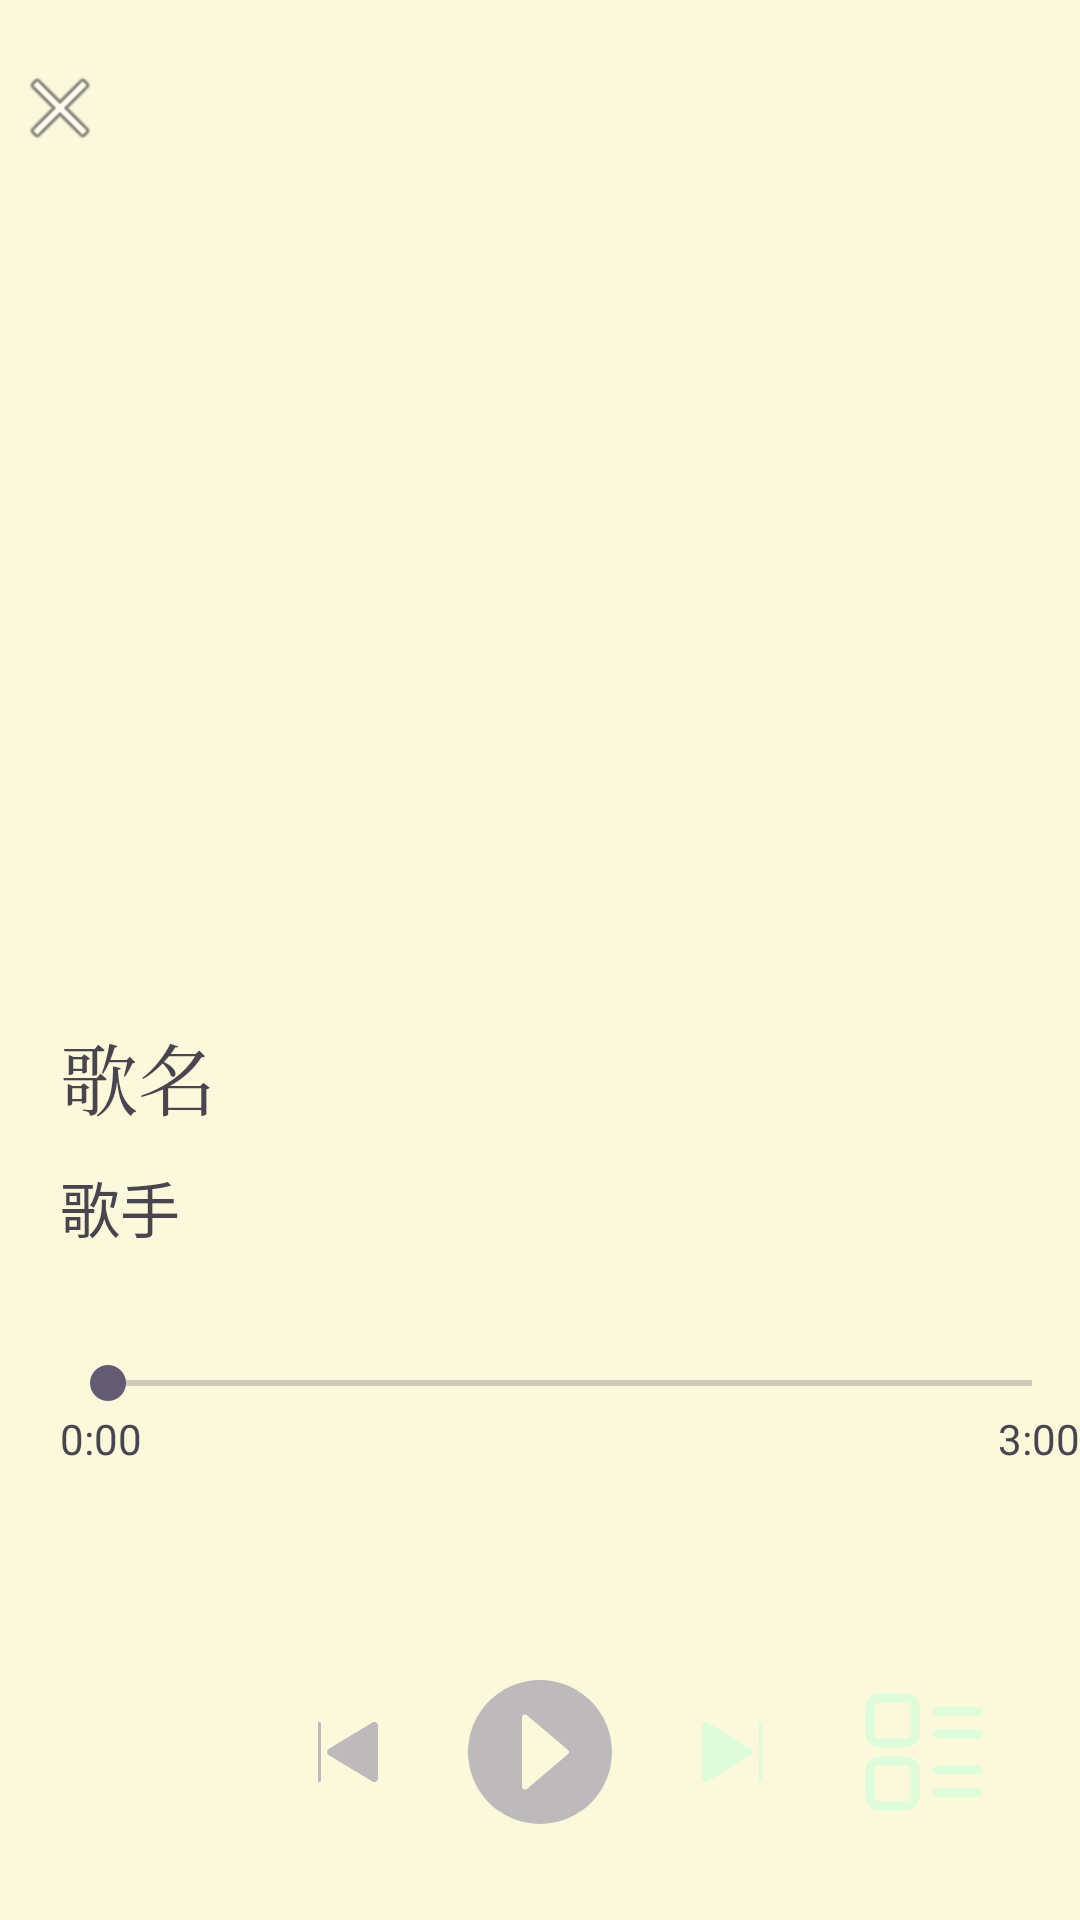

Named icons in this screenshot (1080 × 1920) and their centers, point (x, y):
close clear cancel: point (60, 108)
next: point (732, 1752)
play: point (540, 1752)
playlist: point (924, 1752)
previous: point (348, 1752)
